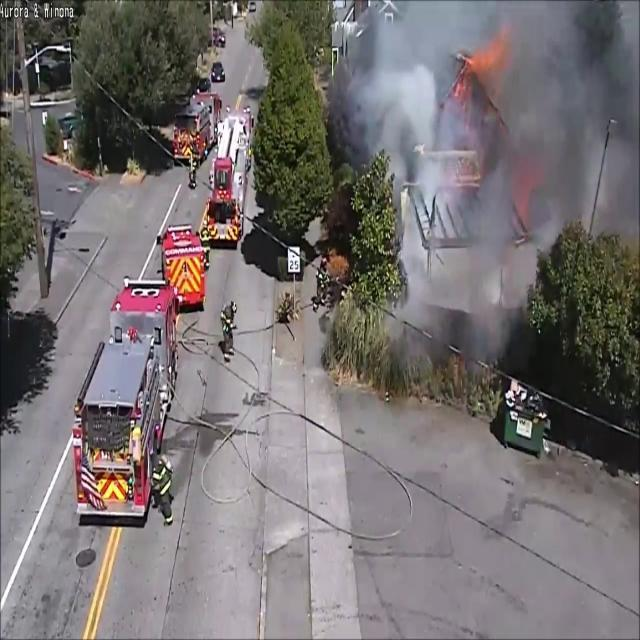Fire: (94, 473, 130, 508)
Smoke: (336, 2, 640, 296)
